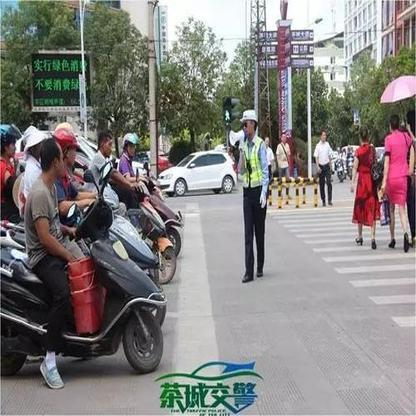target: (3, 140, 166, 383)
